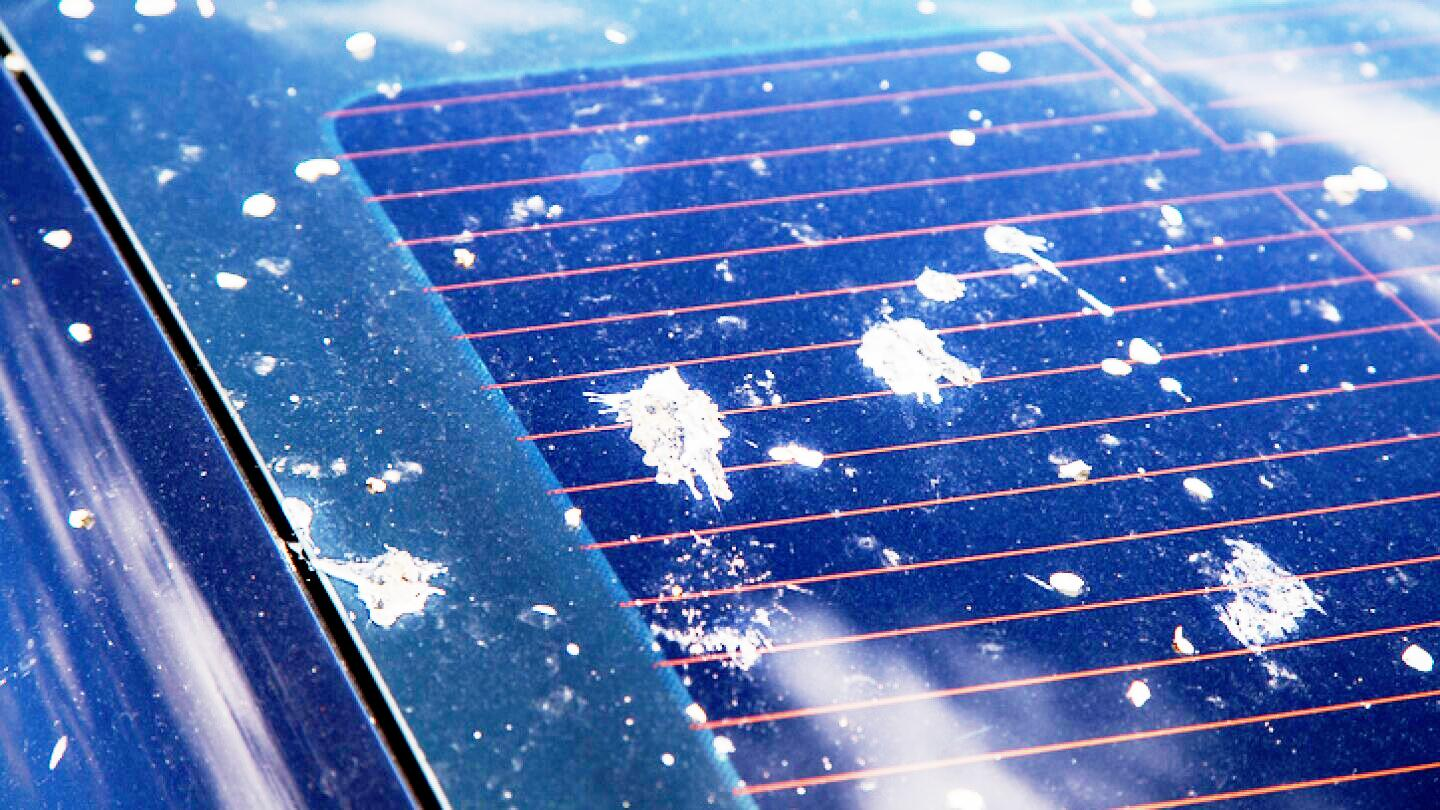Bird Poop: (638, 532, 811, 669), (587, 368, 731, 504), (1215, 541, 1321, 646), (314, 547, 445, 626), (856, 319, 980, 402), (985, 226, 1066, 280), (1324, 167, 1387, 203), (366, 461, 423, 493), (508, 195, 563, 226), (915, 270, 964, 302), (282, 497, 313, 542), (769, 444, 823, 469), (295, 159, 340, 180), (1401, 644, 1434, 672), (1049, 573, 1084, 596), (346, 32, 375, 58), (1080, 292, 1112, 315), (1130, 338, 1159, 363), (947, 789, 983, 809), (243, 194, 275, 216), (48, 735, 68, 769), (1127, 680, 1151, 707), (977, 52, 1009, 72), (1172, 626, 1195, 653), (1183, 479, 1212, 500), (1058, 460, 1090, 479), (136, 0, 175, 15), (252, 355, 281, 375), (59, 0, 93, 17), (43, 229, 71, 248), (216, 273, 247, 289), (68, 510, 94, 528), (949, 129, 976, 146), (1161, 378, 1185, 397), (1101, 360, 1131, 375), (1131, 0, 1155, 17), (4, 52, 24, 72), (69, 324, 91, 342), (1162, 206, 1182, 225), (686, 704, 706, 722), (604, 29, 627, 44), (456, 249, 474, 267), (566, 508, 581, 527), (714, 736, 733, 751), (197, 0, 215, 15)
